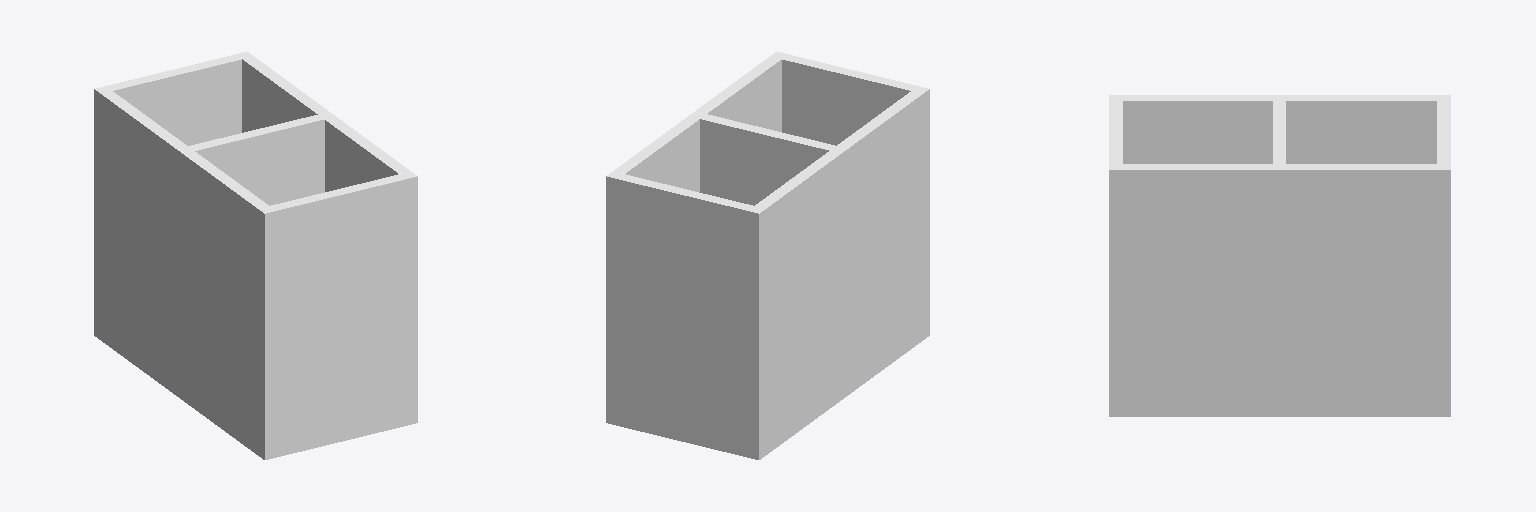
3 views of the same model, side by side, from view 1: azimuth 30°, elevation 25°; view 2: azimuth 150°, elevation 25°; view 3: azimuth 270°, elevation 25° (orthographic).
Visible parts, largest first — view 1: wall_1_4, wall_2_10, wall_5_28, wall_4_21, wall_3_15, wall_3_18, wall_1_6, wall_1_5, wall_3_17, wall_4_22; view 2: wall_1_4, wall_4_22, wall_5_27, wall_2_9, wall_3_15, wall_3_18, wall_1_6, wall_3_17, wall_1_5; view 3: wall_3_16, wall_1_3, wall_3_18, wall_1_6, wall_3_17, wall_1_5.
Part boxes in pixels (bbox=[...]): wall_1_4: bbox=[97, 91, 264, 459]; wall_2_10: bbox=[265, 176, 417, 459]; wall_5_28: bbox=[195, 120, 324, 205]; wall_4_21: bbox=[113, 60, 241, 145]; wall_3_15: bbox=[242, 59, 397, 191]; wall_3_18: bbox=[245, 52, 416, 175]; wall_1_6: bbox=[100, 90, 266, 213]; wall_1_5: bbox=[104, 89, 268, 208]; wall_3_17: bbox=[243, 56, 407, 174]; wall_4_22: bbox=[94, 89, 96, 336]; wall_1_4: bbox=[763, 89, 929, 456]; wall_4_22: bbox=[606, 176, 762, 459]; wall_5_27: bbox=[700, 119, 828, 205]; wall_2_9: bbox=[782, 60, 910, 145]; wall_3_15: bbox=[626, 59, 781, 192]; wall_3_18: bbox=[607, 52, 778, 175]; wall_1_6: bbox=[760, 89, 928, 209]; wall_3_17: bbox=[616, 56, 780, 174]; wall_1_5: bbox=[753, 90, 919, 208]; wall_3_16: bbox=[1109, 170, 1450, 416]; wall_1_3: bbox=[1123, 101, 1436, 163]; wall_3_18: bbox=[1111, 167, 1448, 169]; wall_1_6: bbox=[1110, 95, 1443, 97]; wall_3_17: bbox=[1118, 164, 1441, 166]; wall_1_5: bbox=[1117, 98, 1442, 100].
Bounding box in the file's own units: 99.18 × 152 × 191.